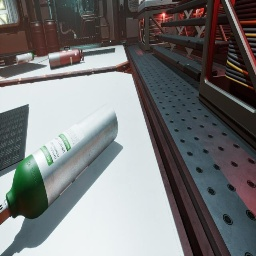0: (0, 103, 118, 225), (16, 53, 37, 64)
FirstAidBox ,: (59, 46, 70, 52)
NitrogenTank ,: (48, 48, 84, 70)
